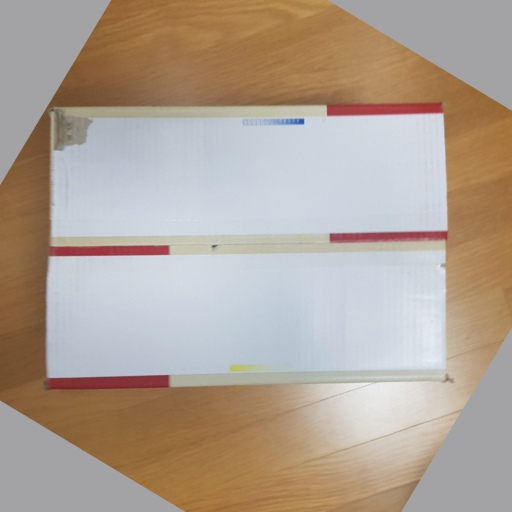Paper_0: (41, 100, 462, 399)
